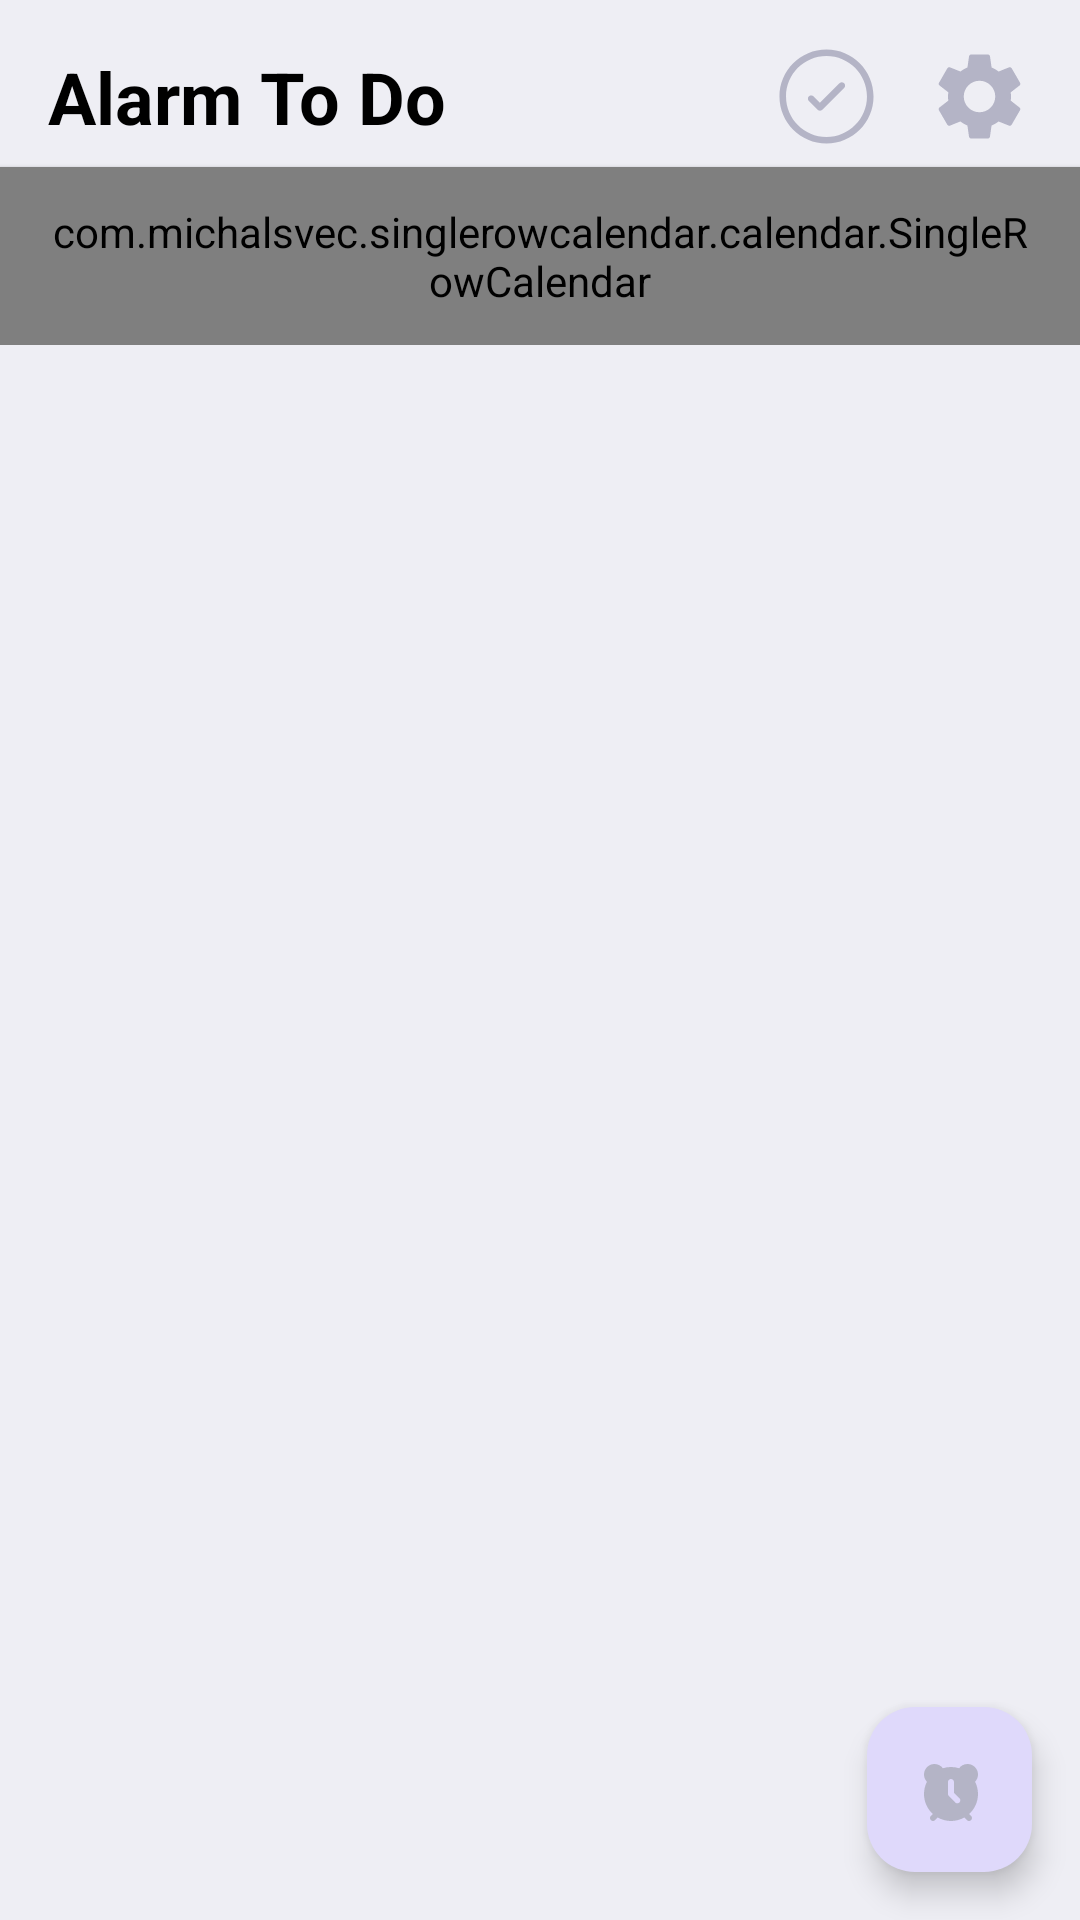

Point at icon controls on the screen. Image size 1080 × 1920, points as [x,y].
alarm: [951,1792]
check circle: [826,96]
settings: [979,96]
